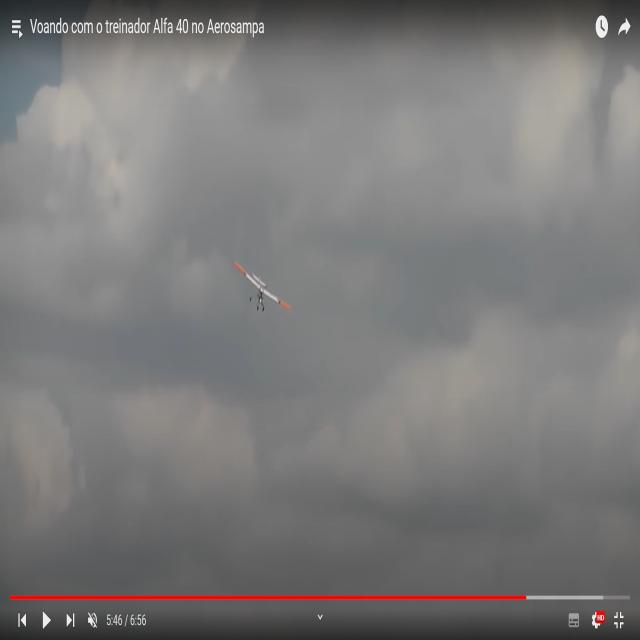iha: (232, 258, 292, 319)
